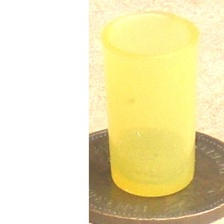glass: (91, 8, 206, 203)
